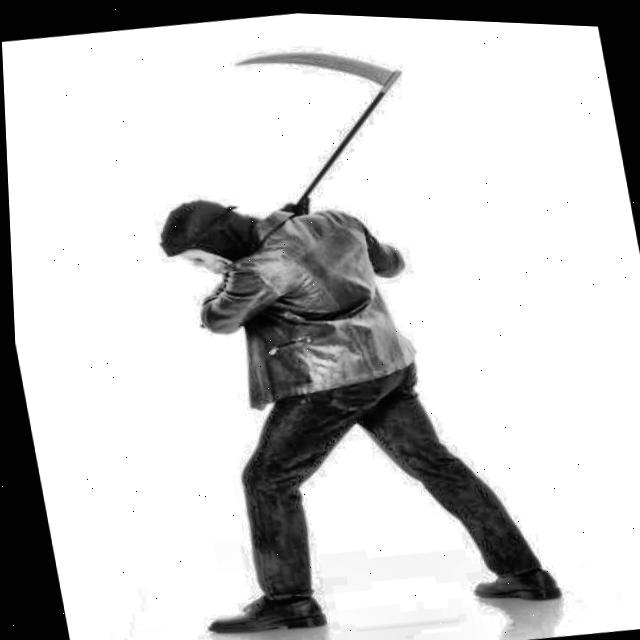robbery: (144, 100, 576, 639)
